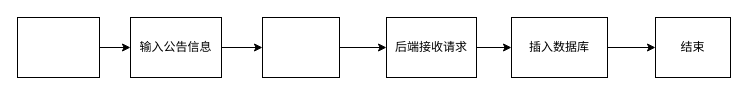
The diagram is 748 pixels wide and 95 high, and some of its shapes have lost their labels. The shapes that lost their labels are listed below. From the top down, each one's centre as x and y in pixels, then its label:
point (58, 47): 开始
point (301, 47): 发送请求
